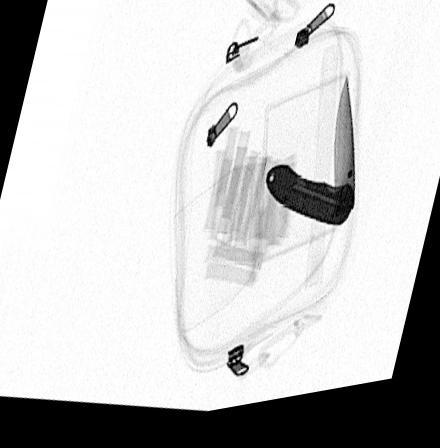Knife: (264, 87, 356, 238)
